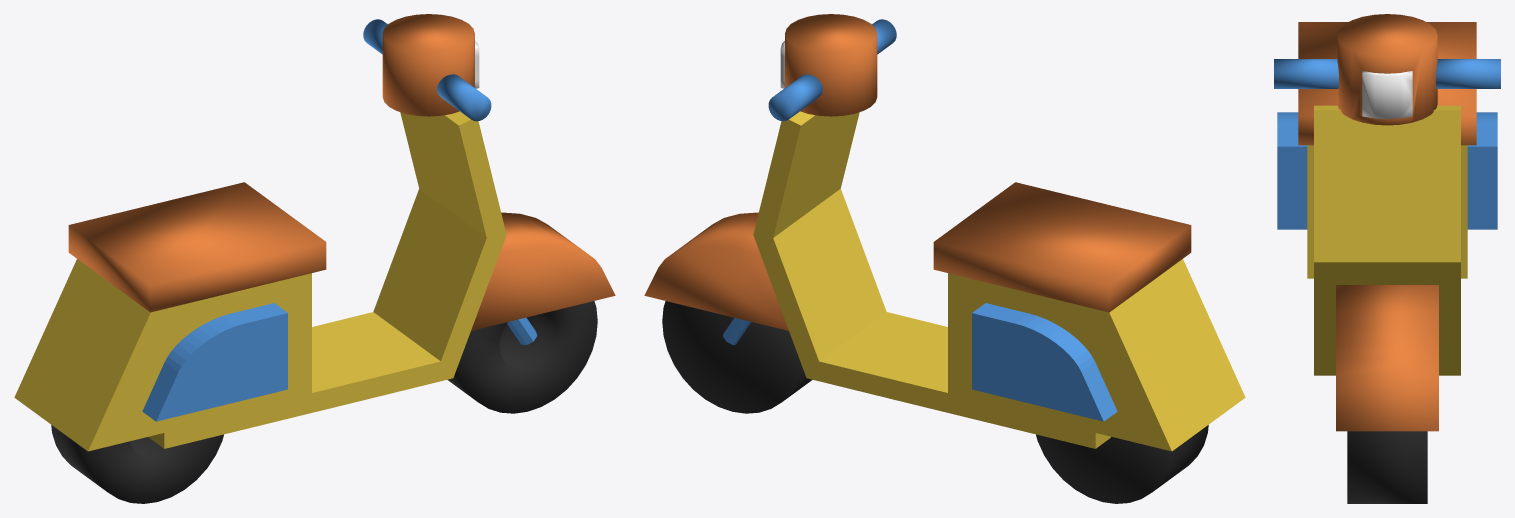
The model's file is 黄色电动车.fbx.
3 views of the same model, side by side, from view 1: azimuth 30°, elevation 25°; view 2: azimuth 150°, elevation 25°; view 3: azimuth 270°, elevation 25° (orthographic). The views are drawn at different scales.
Parts seen in each view (by area): view 1: 黄色电动车; view 2: 黄色电动车; view 3: 黄色电动车.
Boxes of the visible parts, x1,y1,x2,y2 form: 黄色电动车: (14,14,615,503); 黄色电动车: (644,14,1245,503); 黄色电动车: (1274,14,1500,503).
Bounding box in the file's own units: 164 × 111 × 54.83.
